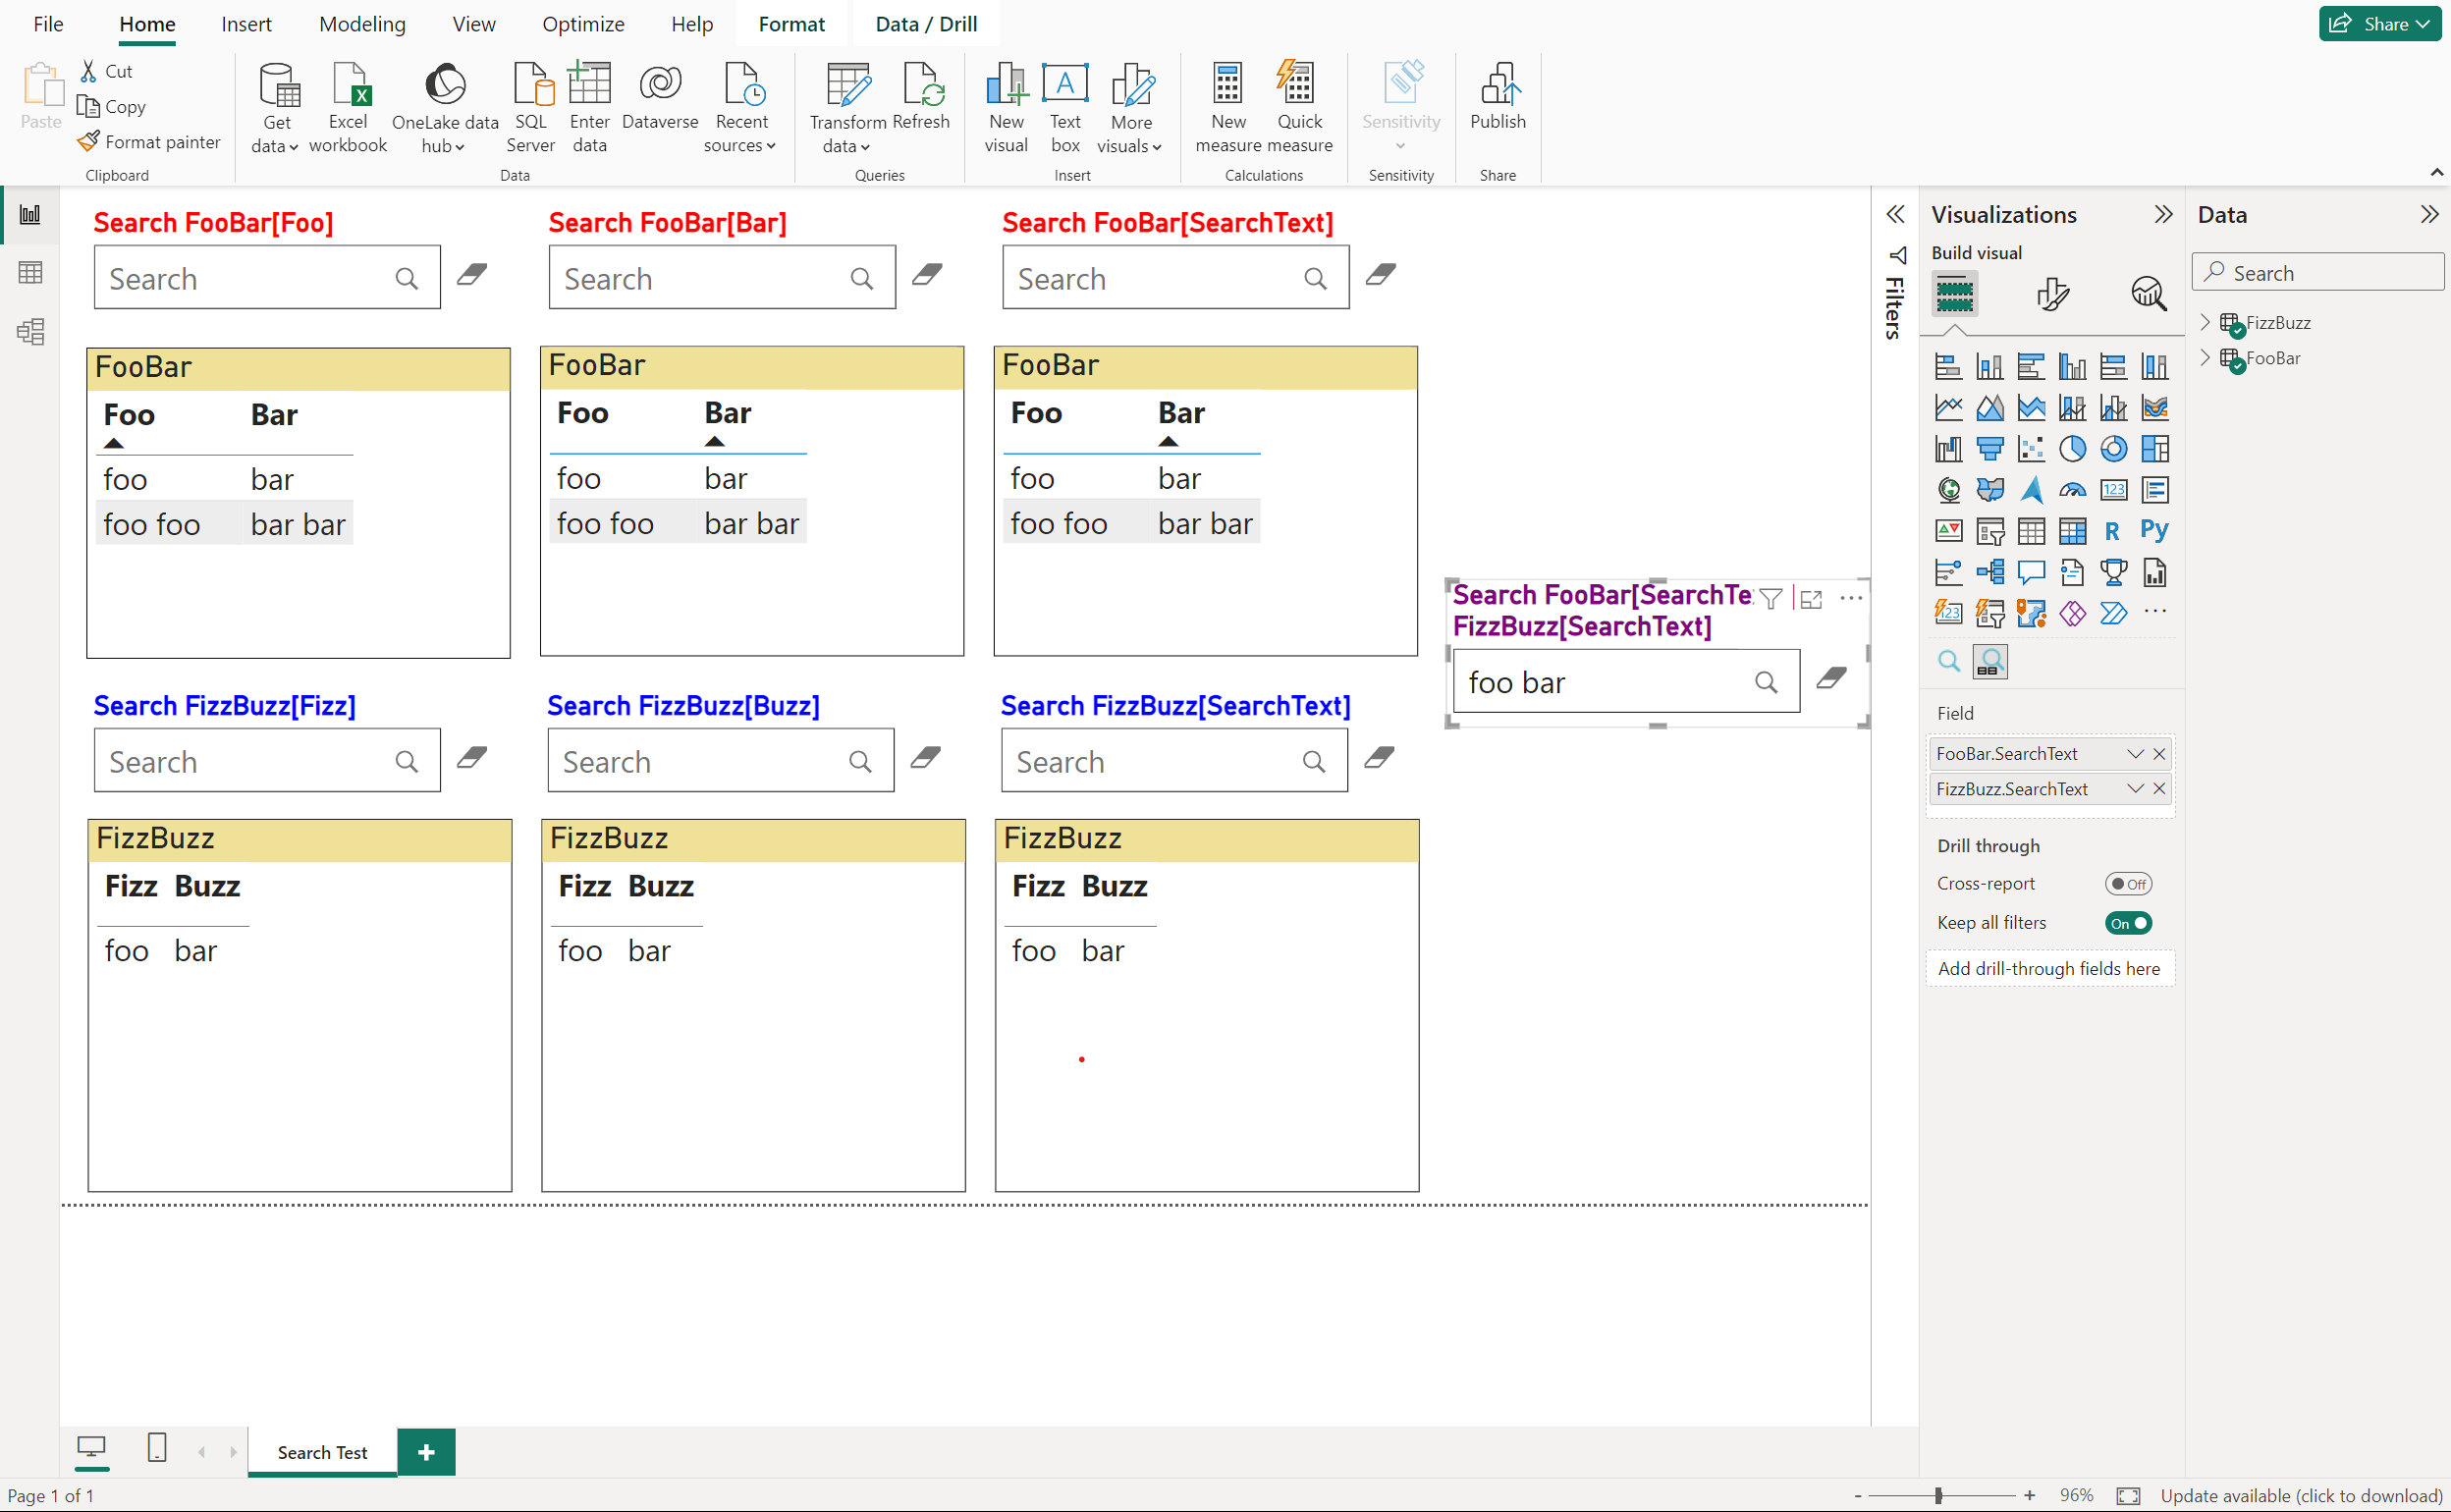

The page's visual inventory and layout, read from the dashboard file:
{"tool":"powerbi","page":{"name":"Search Test","canvas":[1280,720],"ordinal":0},"visuals":[{"type":"tableEx","title":"FooBar","fields":{"Values":["FooBar.Foo","FooBar.Bar"]},"box":[18.7,114.5,299.9,219.7],"z":0},{"type":"textFilter25A4896A83E0487089E2B90C9AE57C8A","title":"Search FooBar[Foo]","fields":{"field":["FooBar.Foo"]},"box":[18.9,14.1,300,90],"z":1000},{"type":"tableEx","title":"FooBar","fields":{"Values":["FooBar.Foo","FooBar.Bar"]},"box":[339.3,113.8,300.3,219.5],"z":2000},{"type":"textFilter25A4896A83E0487089E2B90C9AE57C8A","title":"Search FooBar[Bar]","fields":{"field":["FooBar.Bar"]},"box":[340.1,14.5,300,90],"z":3000},{"type":"tableEx","title":"FooBar","fields":{"Values":["FooBar.Foo","FooBar.Bar"]},"box":[660.1,113.8,300.3,219.5],"z":4000},{"type":"textFilter25A4896A83E0487089E2B90C9AE57C8A","title":"Search FooBar[SearchText]","fields":{"field":["FooBar.SearchText"]},"box":[660.9,14.5,300.3,90],"z":5000},{"type":"tableEx","title":"FizzBuzz","fields":{"Values":["FizzBuzz.Fizz","FizzBuzz.Buzz"]},"box":[19.7,447.8,300.3,264.1],"z":6000},{"type":"textFilter25A4896A83E0487089E2B90C9AE57C8A","title":"Search FizzBuzz[Fizz]","fields":{"field":["FizzBuzz.Fizz"]},"box":[18.4,356.1,300,90],"z":7000},{"type":"tableEx","title":"FizzBuzz","fields":{"Values":["FizzBuzz.Fizz","FizzBuzz.Buzz"]},"box":[340.5,447.8,300.3,264.1],"z":8000},{"type":"textFilter25A4896A83E0487089E2B90C9AE57C8A","title":"Search FizzBuzz[Buzz]","fields":{"field":["FizzBuzz.Buzz"]},"box":[339.6,356.5,300,90],"z":9000},{"type":"tableEx","title":"FizzBuzz","fields":{"Values":["FizzBuzz.Fizz","FizzBuzz.Buzz"]},"box":[661.3,447.8,300.3,264.1],"z":10000},{"type":"textFilter25A4896A83E0487089E2B90C9AE57C8A","title":"Search FizzBuzz[SearchText]","fields":{"field":["FizzBuzz.SearchText"]},"box":[660.5,356.5,300.3,90],"z":11000},{"type":"textFilterRSe8c12c3a530441bf833d876d17d39dda","title":"Search FooBar[SearchText] || FizzBuzz[SearchText]","fields":{"field":["Min(FooBar.SearchText)","Min(FizzBuzz.SearchText)"]},"box":[979.8,278,299.9,105.2],"z":11001}]}

Visuals, with their boxes on the page's 1280x720 design canvas (x1, y1, x2, y2). These are canvas units, not pixel positions in the 2451x1512 screenshot, which may show the page scaled, cropped or inside an application window:
"FooBar" tableEx: Rect(19, 114, 319, 334)
"Search FooBar[Foo]" textFilter25A4896A83E0487089E2B90C9AE57C8A: Rect(19, 14, 319, 104)
"FooBar" tableEx: Rect(339, 114, 640, 333)
"Search FooBar[Bar]" textFilter25A4896A83E0487089E2B90C9AE57C8A: Rect(340, 14, 640, 104)
"FooBar" tableEx: Rect(660, 114, 960, 333)
"Search FooBar[SearchText]" textFilter25A4896A83E0487089E2B90C9AE57C8A: Rect(661, 14, 961, 104)
"FizzBuzz" tableEx: Rect(20, 448, 320, 712)
"Search FizzBuzz[Fizz]" textFilter25A4896A83E0487089E2B90C9AE57C8A: Rect(18, 356, 318, 446)
"FizzBuzz" tableEx: Rect(340, 448, 641, 712)
"Search FizzBuzz[Buzz]" textFilter25A4896A83E0487089E2B90C9AE57C8A: Rect(340, 356, 640, 446)
"FizzBuzz" tableEx: Rect(661, 448, 962, 712)
"Search FizzBuzz[SearchText]" textFilter25A4896A83E0487089E2B90C9AE57C8A: Rect(660, 356, 961, 446)
"Search FooBar[SearchText] || FizzBuzz[SearchText]" textFilterRSe8c12c3a530441bf833d876d17d39dda: Rect(980, 278, 1280, 383)
